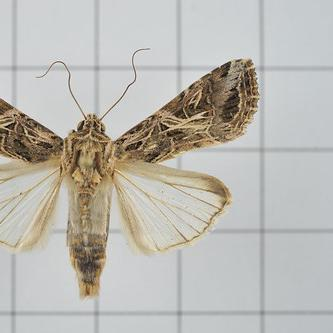Spodoptera litura: (1, 48, 261, 299)
